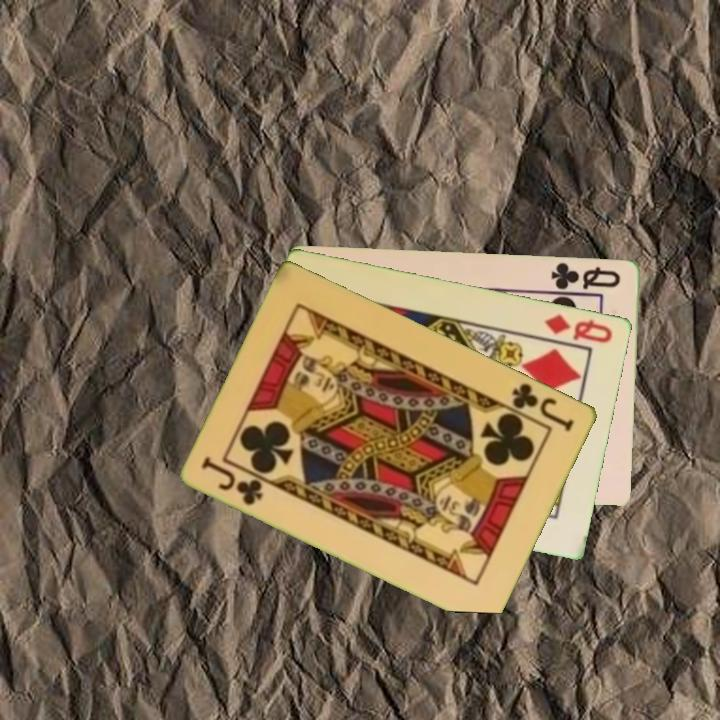Jc: (508, 379, 578, 435), (198, 453, 267, 509)
Qc: (548, 258, 624, 292)
Qd: (541, 310, 616, 346)
